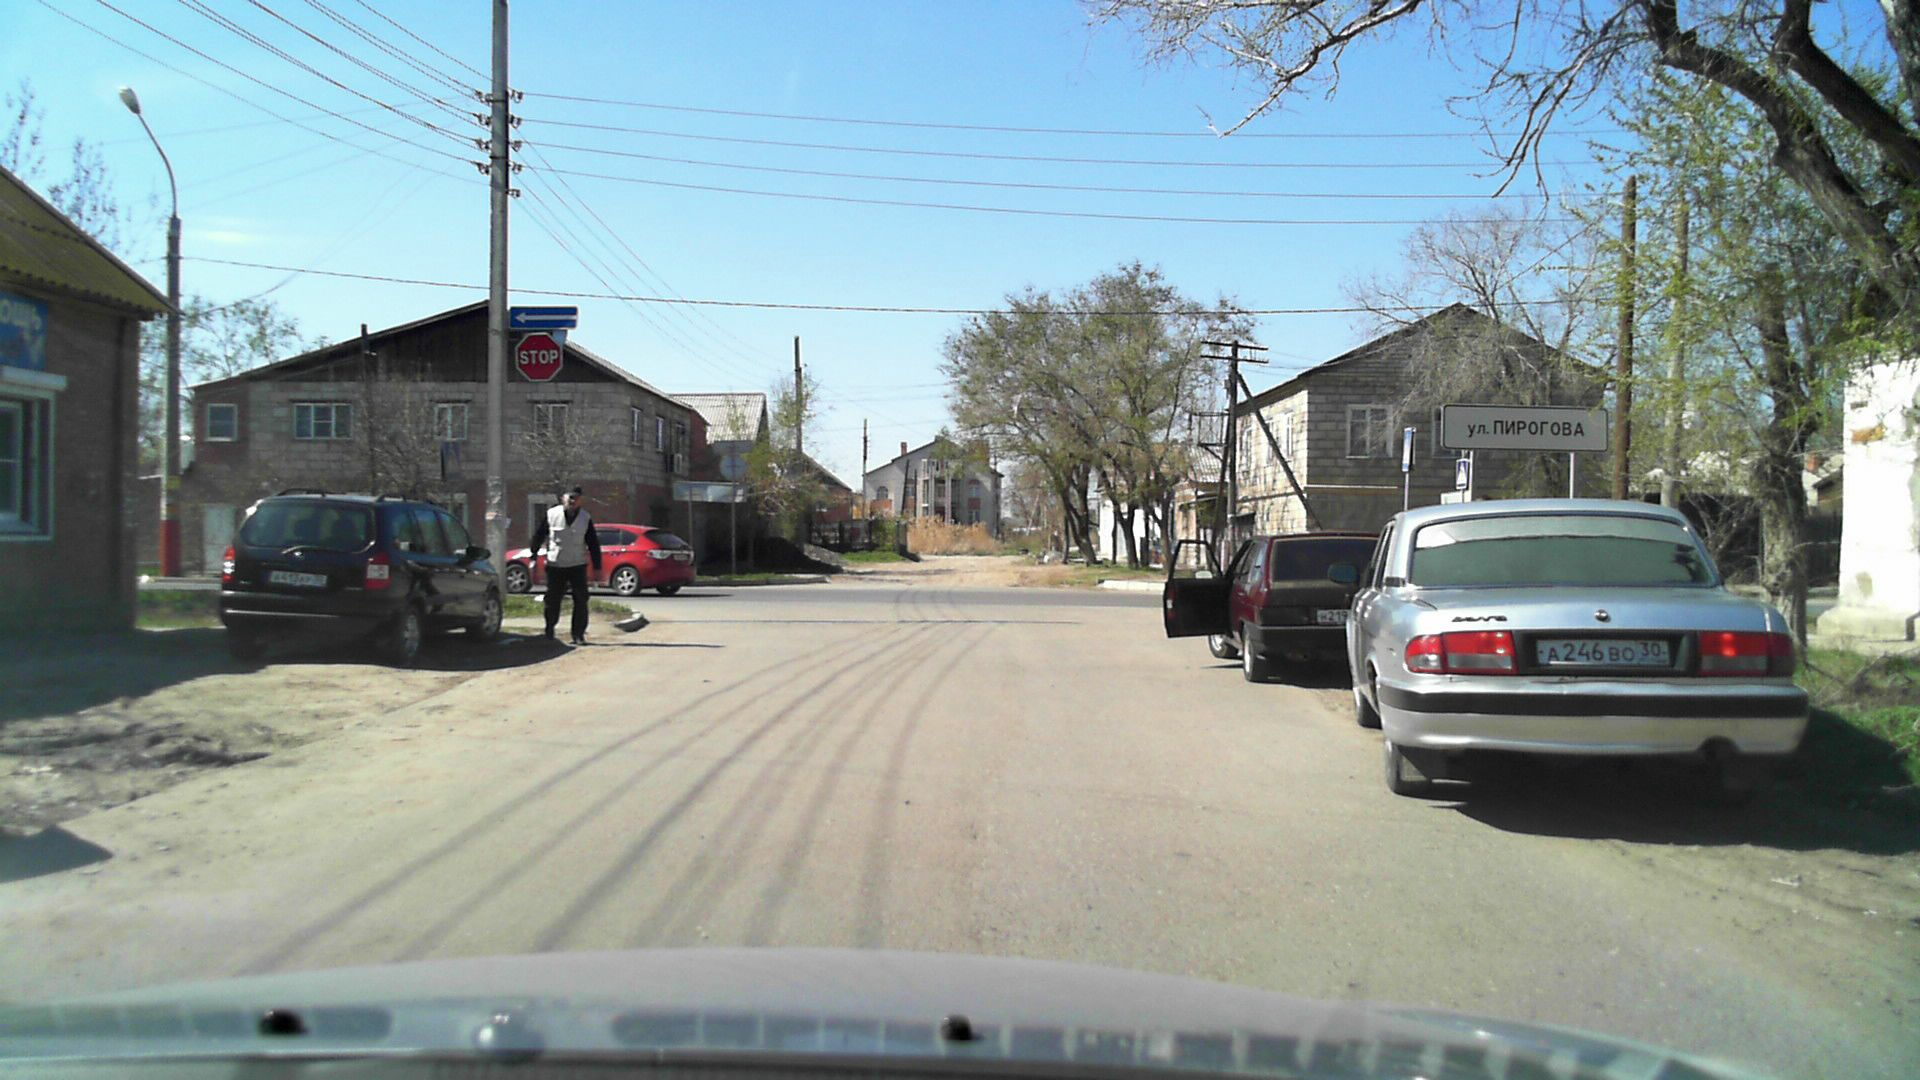One-Way Traffic: (510, 306, 578, 328)
